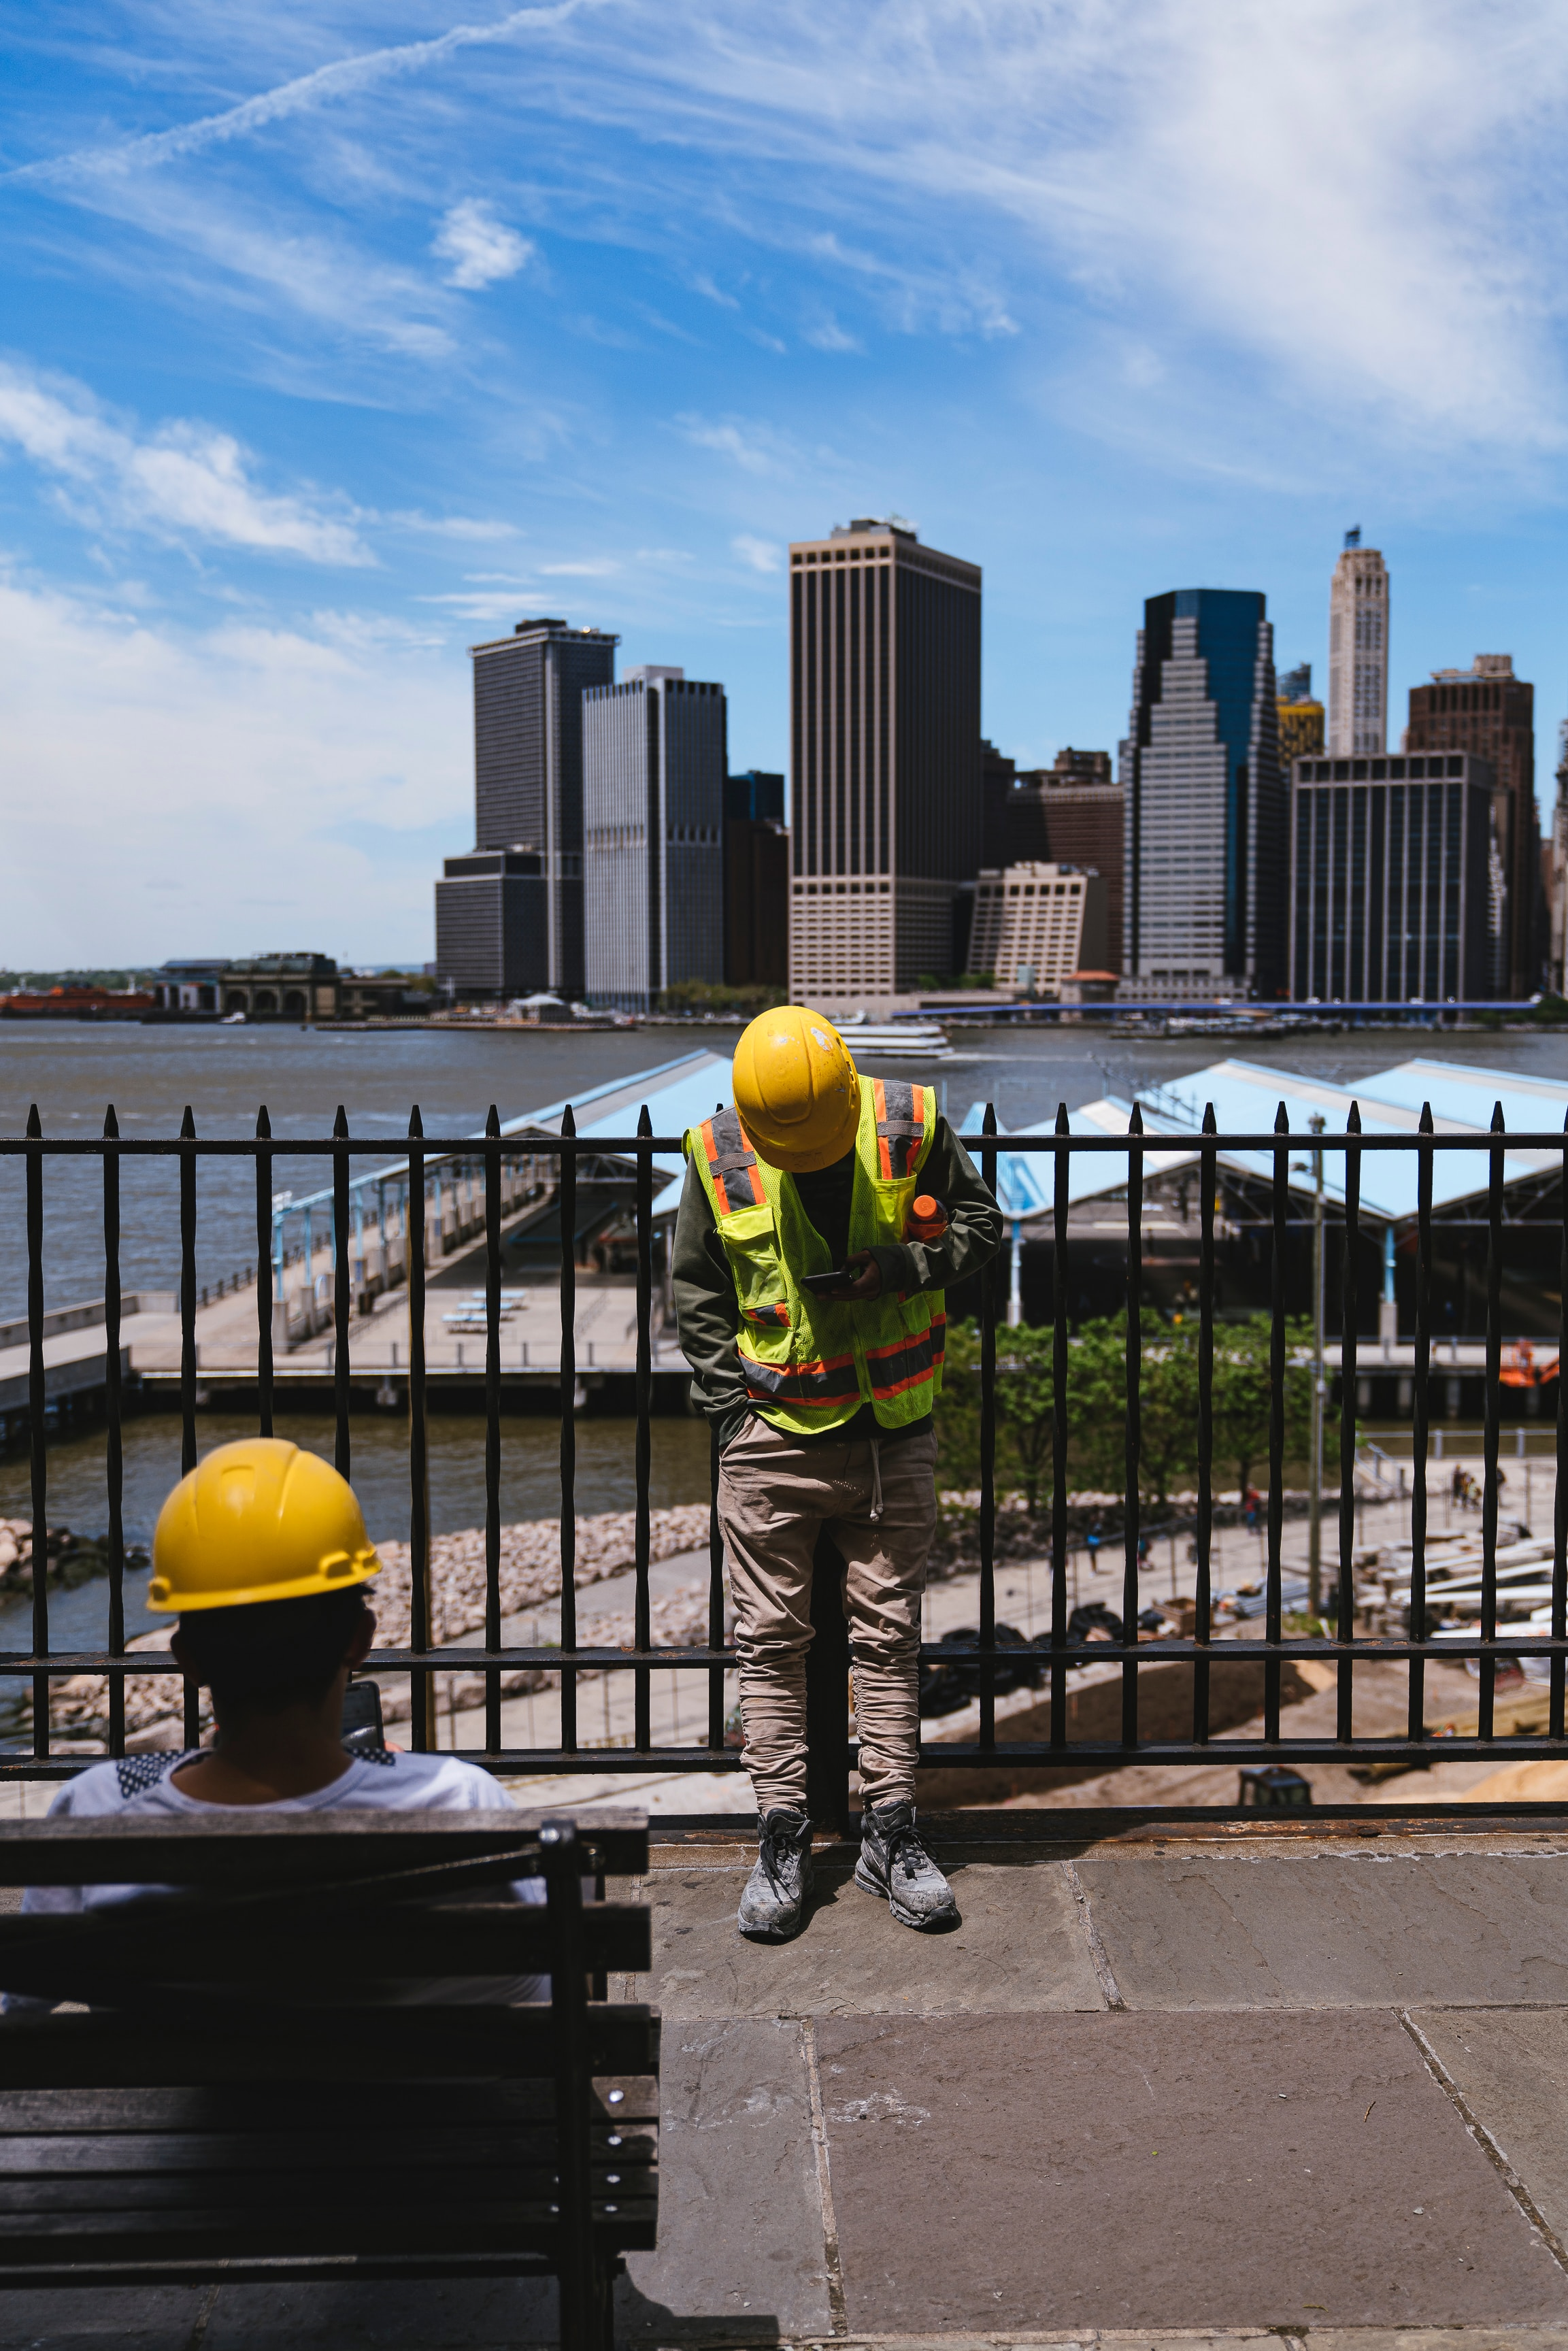Helmet: (129, 1429, 409, 1639), (712, 997, 884, 1189)
Reflective vest: (684, 1078, 973, 1447)
